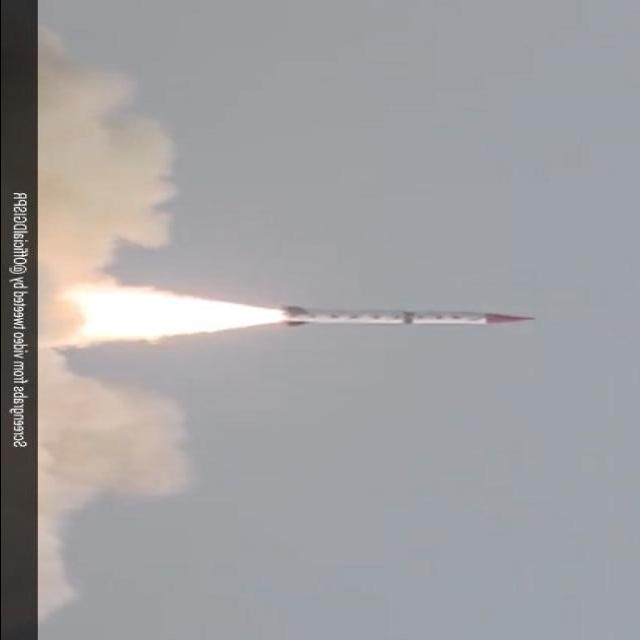Missile: (279, 304, 546, 330)
